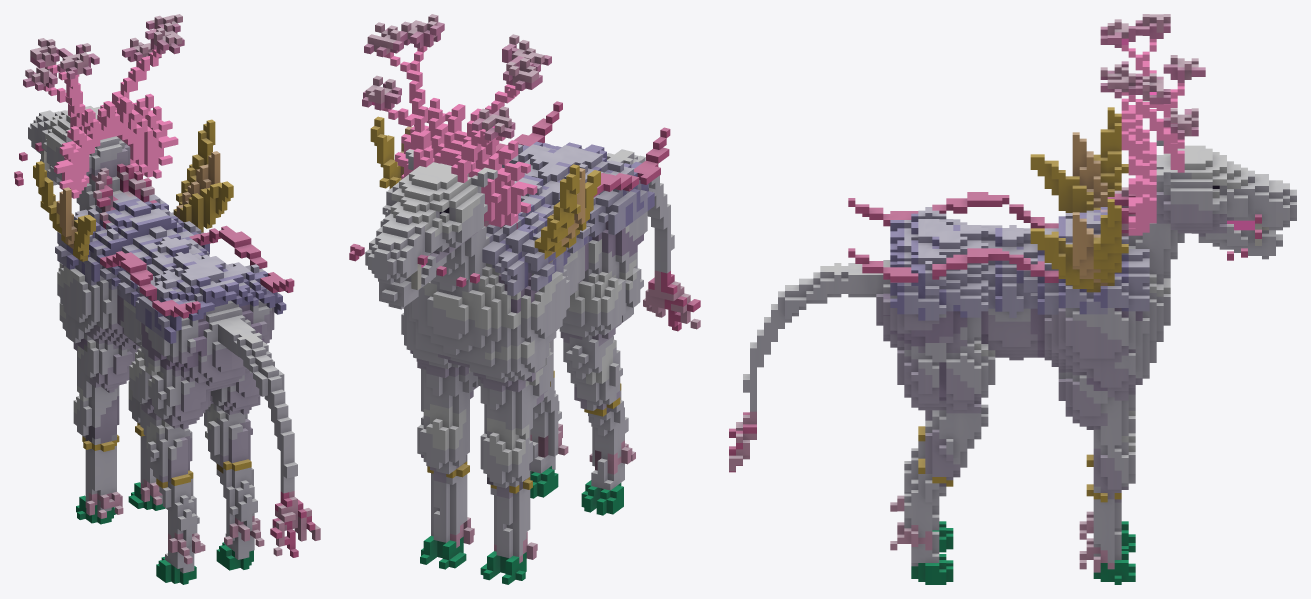
Rendered from Kirin.glb.
The picture shows the model from 3 angles, left to right: view 1: azimuth 30°, elevation 25°; view 2: azimuth 150°, elevation 25°; view 3: azimuth 270°, elevation 25°; orthographic projection. The views are drawn at different scales.
Visible parts, largest first — view 1: Body__Tex, Head__Crystal, Head__Tex, LegBL1__Tex, LegBL2__Tex, FinR__Tex, LegBR2__Tex, LegFL2__Tex, LegFL1__Tex, FinL__Tex, Tail5__Tex, LegBL3__Tex (+14 smaller); view 2: Body__Tex, Head__Tex, Head__Crystal, LegFL1__Tex, LegBL1__Tex, LegFL2__Tex, LegFR2__Tex, LegBL2__Tex, LegBL3__Tex, FinL__Tex, LegFR1__Tex, Tail5__Tex (+10 smaller); view 3: Body__Tex, Head__Tex, LegBR1__Tex, Head__Crystal, FinL__Tex, LegFR1__Tex, FinR__Tex, LegBR2__Tex, LegFR2__Tex, LegBR3__Tex, Neck__Tex, LegFR3__Tex (+9 smaller).
Part boxes in pixels (<box>): Body__Tex: <box>55,192,286,392</box>; Head__Crystal: <box>43,49,178,198</box>; Head__Tex: <box>14,14,184,186</box>; LegBL1__Tex: <box>129,345,210,429</box>; LegBL2__Tex: <box>140,409,196,517</box>; FinR__Tex: <box>173,119,233,232</box>; LegBR2__Tex: <box>203,403,254,507</box>; LegFL2__Tex: <box>73,382,119,479</box>; LegFL1__Tex: <box>59,303,137,392</box>; FinL__Tex: <box>33,161,95,261</box>; Tail5__Tex: <box>270,462,320,557</box>; LegBL3__Tex: <box>156,507,205,584</box>; Body__Tex: <box>403,141,654,367</box>; Head__Tex: <box>349,14,551,309</box>; Head__Crystal: <box>382,46,537,227</box>; LegFL1__Tex: <box>469,340,553,429</box>; LegBL1__Tex: <box>559,252,643,349</box>; LegFL2__Tex: <box>480,413,532,525</box>; LegFR2__Tex: <box>417,399,469,509</box>; LegBL2__Tex: <box>563,336,624,435</box>; LegBL3__Tex: <box>581,414,635,515</box>; FinL__Tex: <box>534,164,600,263</box>; LegFR1__Tex: <box>401,313,478,408</box>; Tail5__Tex: <box>643,234,700,331</box>; Body__Tex: <box>876,207,1170,375</box>; Head__Tex: <box>1100,14,1296,260</box>; LegBR1__Tex: <box>897,340,995,419</box>; Head__Crystal: <box>1121,39,1184,235</box>; FinL__Tex: <box>1030,107,1128,212</box>; LegFR1__Tex: <box>1058,350,1156,438</box>; FinR__Tex: <box>1030,199,1128,292</box>; LegBR2__Tex: <box>904,404,988,509</box>; LegFR2__Tex: <box>1086,429,1135,531</box>; LegBR3__Tex: <box>890,499,953,584</box>; Neck__Tex: <box>1100,187,1184,284</box>; LegFR3__Tex: <box>1079,525,1135,584</box>.
Bounding box in the file's own units: 3.2 × 8.2 × 8.1.
